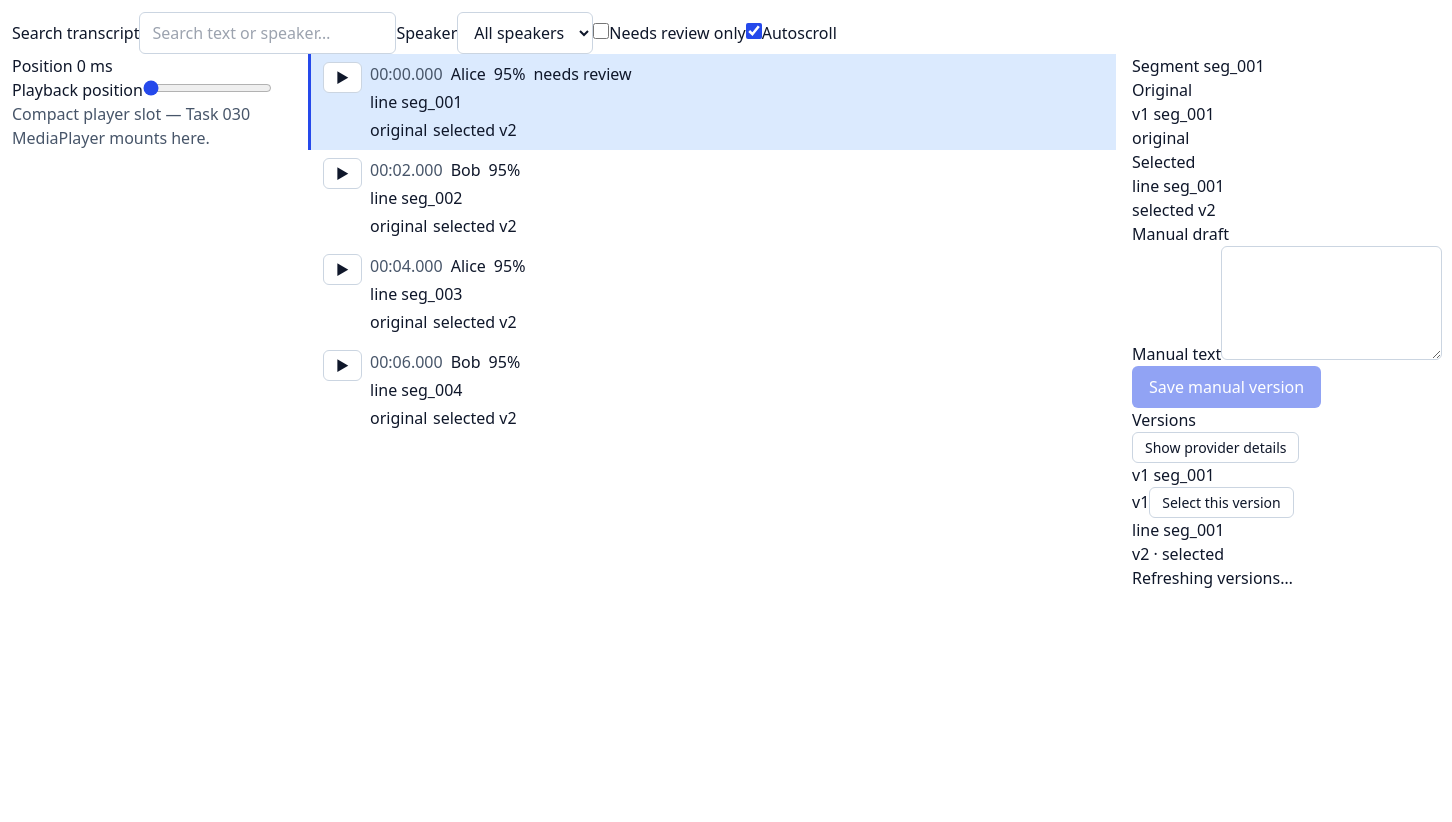
Inspector matrix › surfaces selection conflicts with refresh recovery (recovery: refresh)
Expected: the heading "Segment seg_001" is shown, [1132,55,1265,77]
What coordinates should you click on to do the following:
click the button with test id "transcript-select-version-seg_001-v1"
I would click on:
 (1222, 502)
Its box is [1149,487,1294,518].
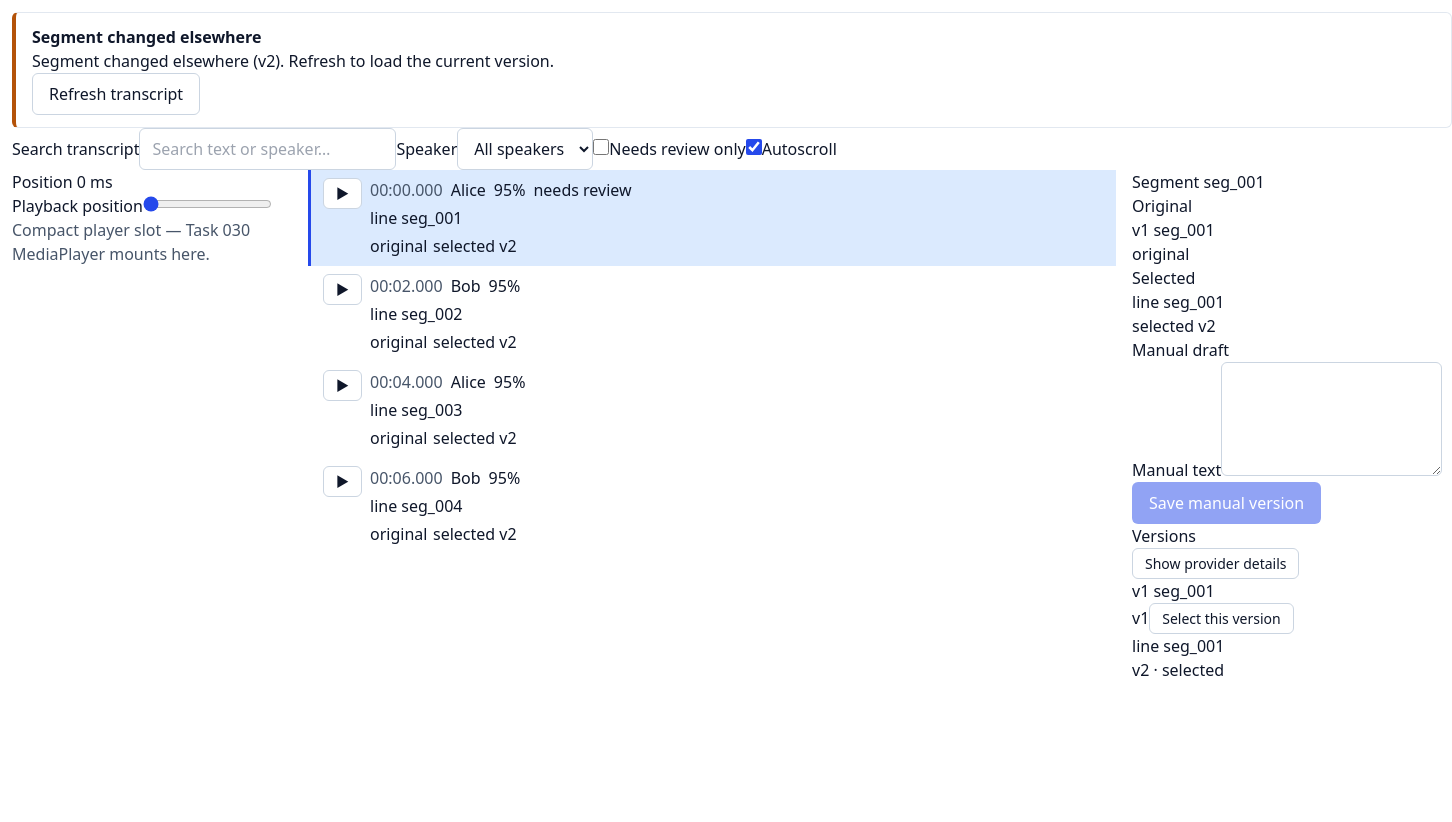
Now the element with test id "transcript-stale-banner" is shown, box [12,12,1451,128]
